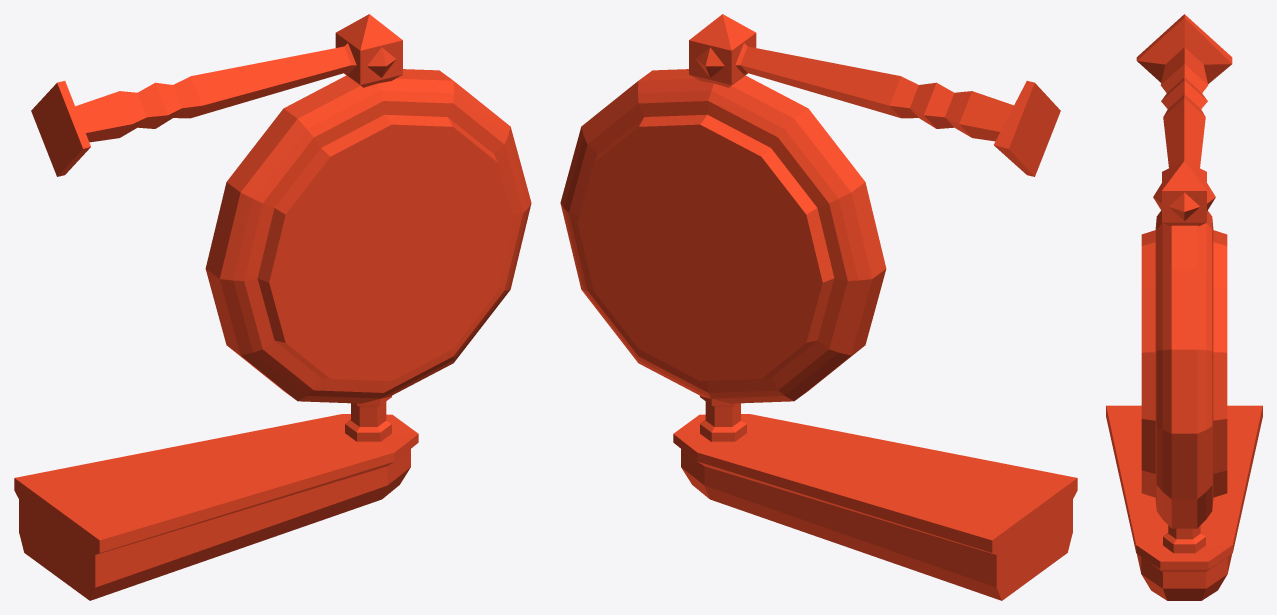
Rendered from SM_Clock_D_City.fbx.
The picture shows the model from 3 angles, left to right: view 1: azimuth 30°, elevation 25°; view 2: azimuth 150°, elevation 25°; view 3: azimuth 270°, elevation 25°; orthographic projection. The views are drawn at different scales.
Parts seen in each view (by area): view 1: SM_Clock_D_City; view 2: SM_Clock_D_City; view 3: SM_Clock_D_City.
Boxes of the visible parts, x1,y1,x2,y2 form: SM_Clock_D_City: (14, 14, 531, 600); SM_Clock_D_City: (560, 14, 1077, 600); SM_Clock_D_City: (1106, 14, 1262, 600).
Bounding box in the file's own units: 0.9022 × 0.9117 × 0.2854.
